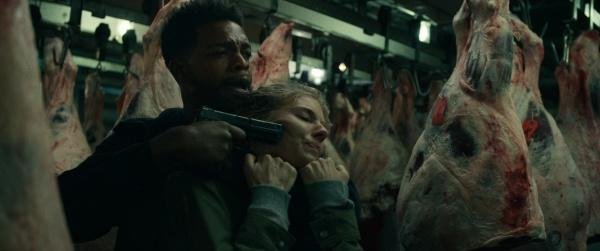Gun: (197, 106, 286, 143)
